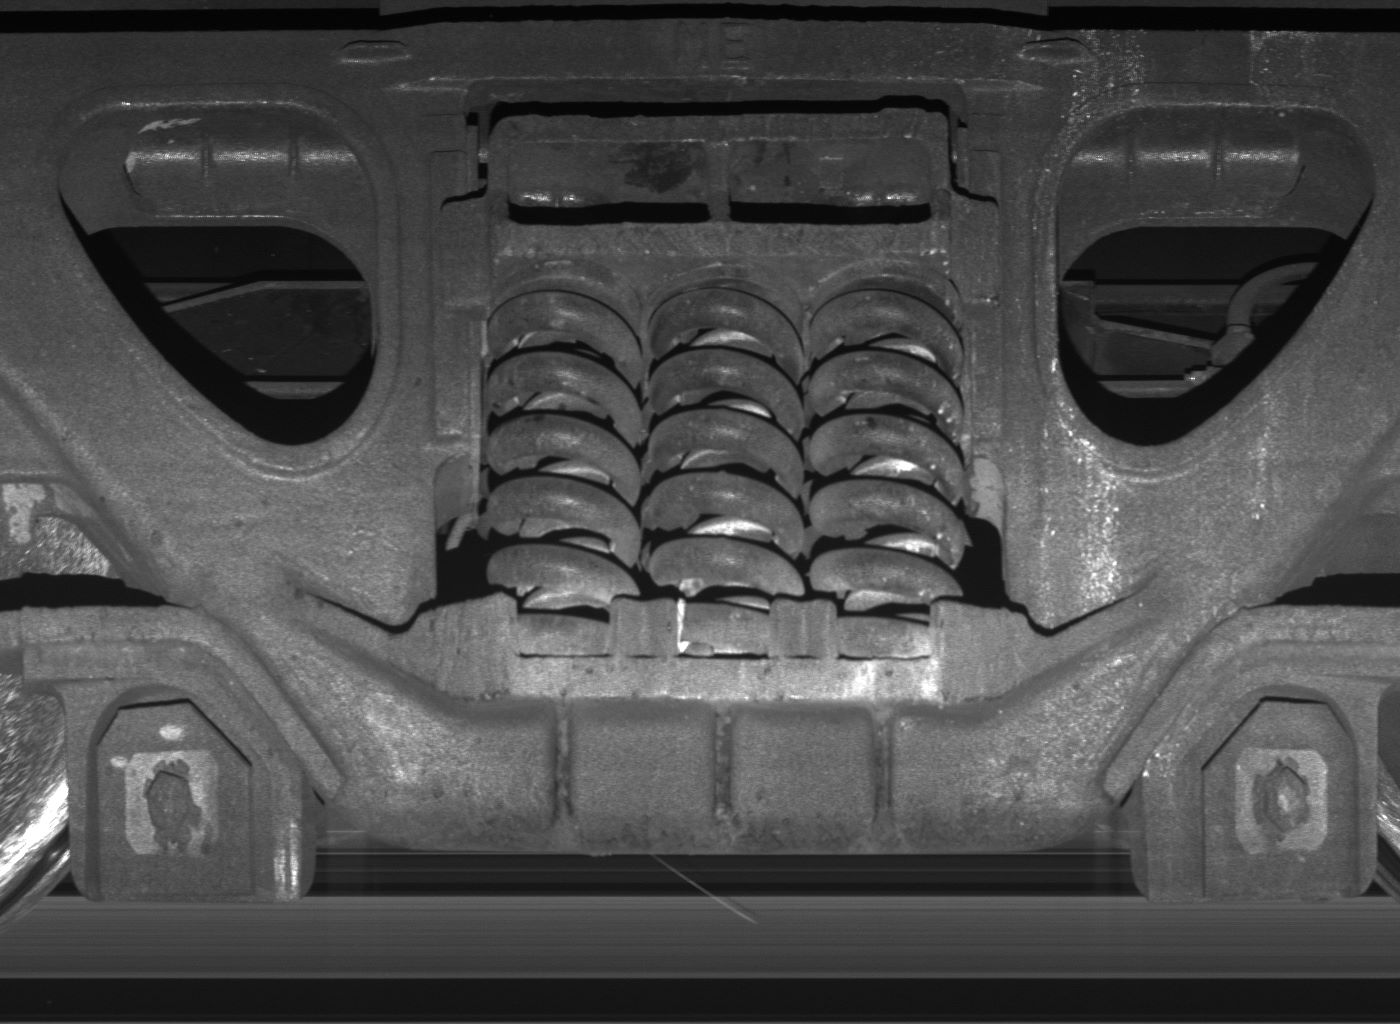normal: (67, 679, 312, 927), (1200, 699, 1363, 896)
